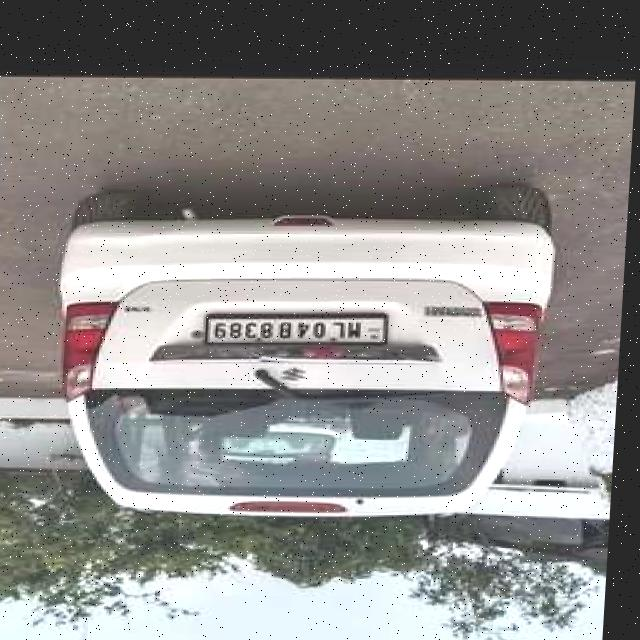plate: (203, 313, 394, 350)
